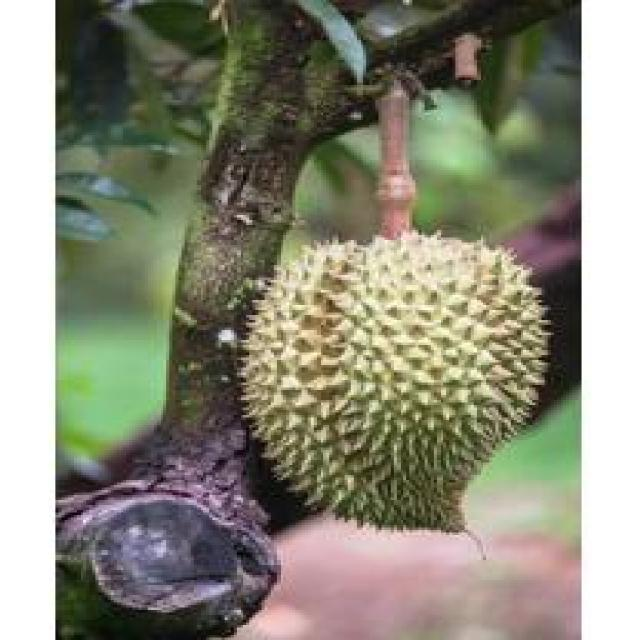fruit: (197, 202, 569, 562)
